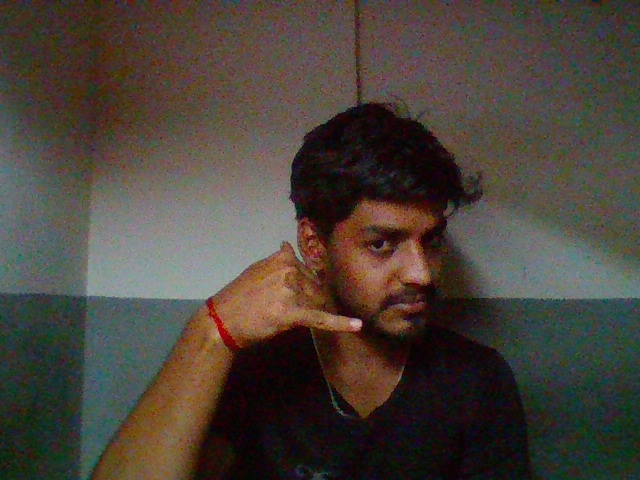Call: (208, 233, 374, 364)
